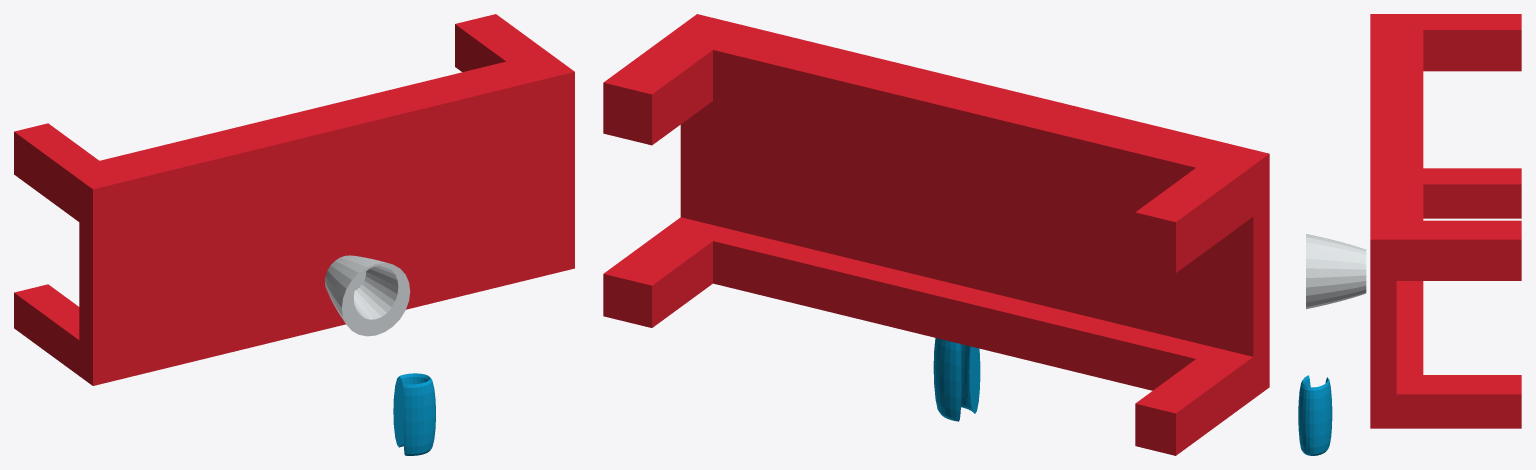
The model's file is tinker.obj.
3 renders of one model, left to right at view 1: azimuth 30°, elevation 25°; view 2: azimuth 150°, elevation 25°; view 3: azimuth 270°, elevation 25°, orthographic. The views are drawn at different scales.
Visible parts, largest first — view 1: group_0_15277357, group_0_14541540, group_0_40919; view 2: group_0_15277357, group_0_40919; view 3: group_0_15277357, group_0_14541540, group_0_40919.
Boxes of the visible parts, x1,y1,x2,y2 form: group_0_15277357: (14,14,574,385); group_0_14541540: (324,255,410,336); group_0_40919: (393,373,435,455); group_0_15277357: (603,14,1269,455); group_0_40919: (933,338,980,421); group_0_15277357: (1370,14,1521,428); group_0_14541540: (1306,234,1366,309); group_0_40919: (1298,375,1332,455).
Size of the model in its own units: 141 by 87 by 59.
